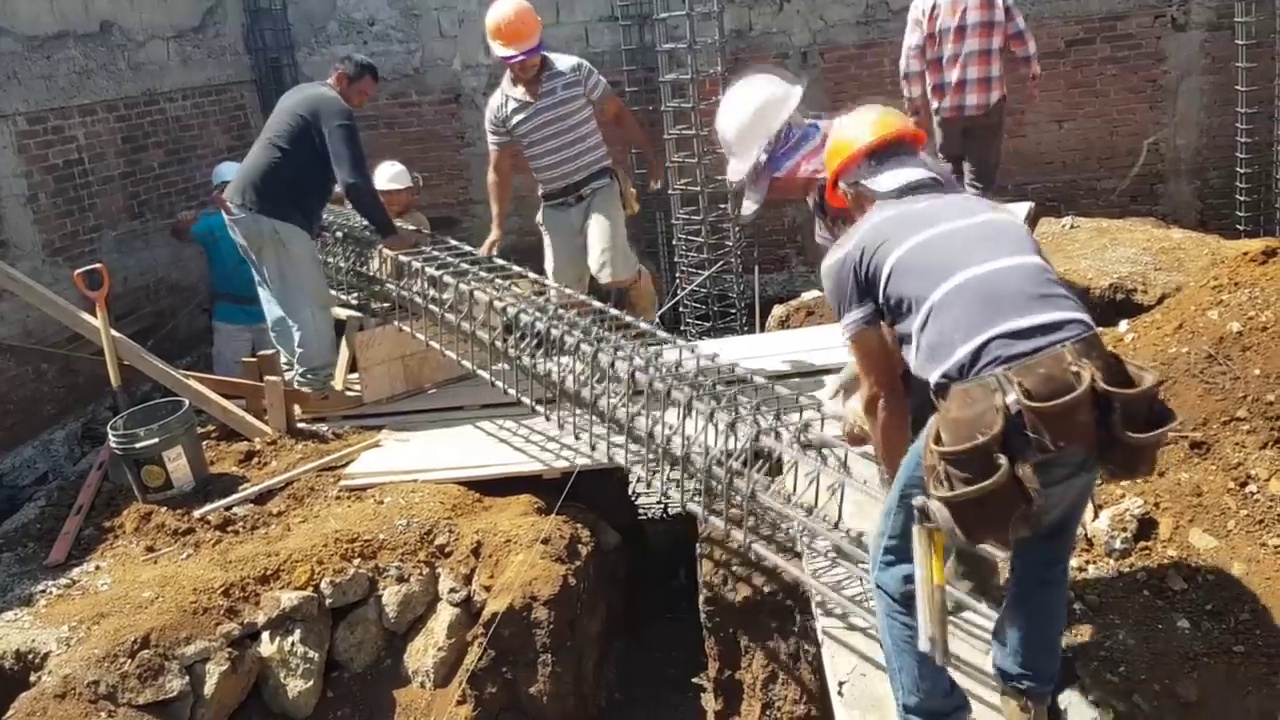helmet: (821, 98, 927, 208), (717, 68, 806, 191), (485, 7, 545, 61), (370, 164, 414, 207), (206, 155, 243, 187)
helmet-off: (323, 52, 378, 108)
helmet-on: (715, 65, 823, 219), (816, 98, 949, 221), (485, 0, 550, 94), (369, 162, 414, 219), (206, 155, 243, 214)
person: (816, 98, 1121, 654), (223, 50, 413, 408), (475, 4, 661, 321), (901, 0, 1041, 190), (175, 152, 271, 373), (369, 160, 434, 250)
